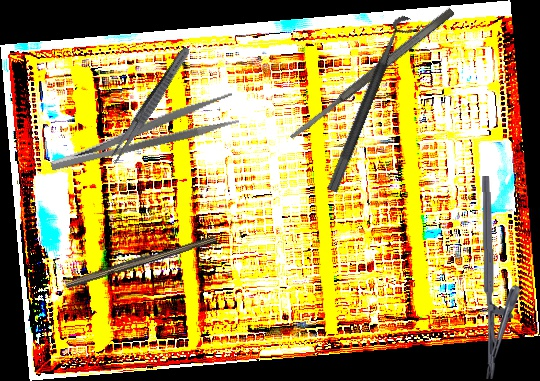Dressing Forceps: (44, 91, 241, 176), (106, 44, 194, 167)
Fixation Ring: (326, 13, 423, 199)
Needle Holder: (481, 175, 522, 380)
Scalpel Handle: (63, 231, 218, 291)
Spatula Surgical: (287, 6, 456, 142)
